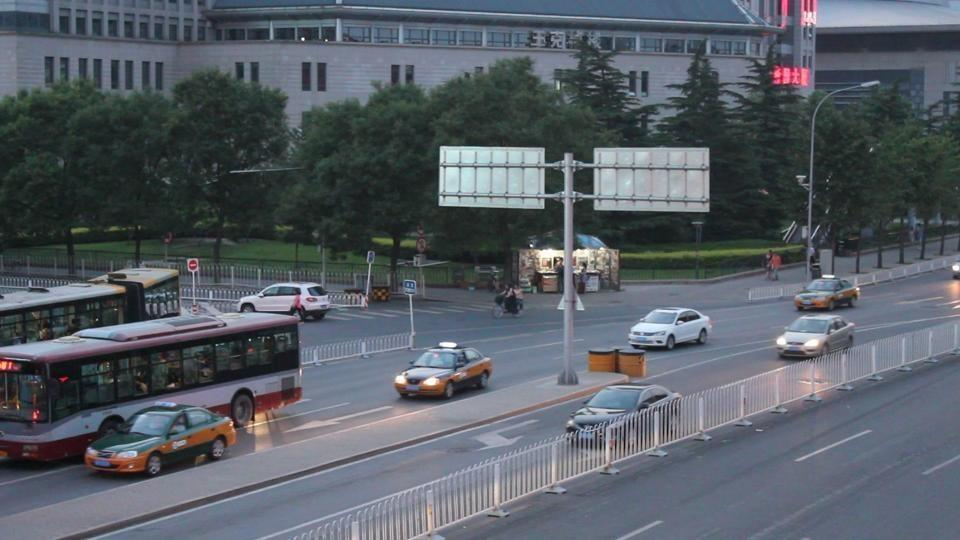car: (83, 404, 238, 476), (563, 382, 683, 441), (393, 346, 494, 400), (627, 307, 715, 351), (775, 313, 857, 359), (237, 283, 332, 321), (792, 276, 859, 312)
